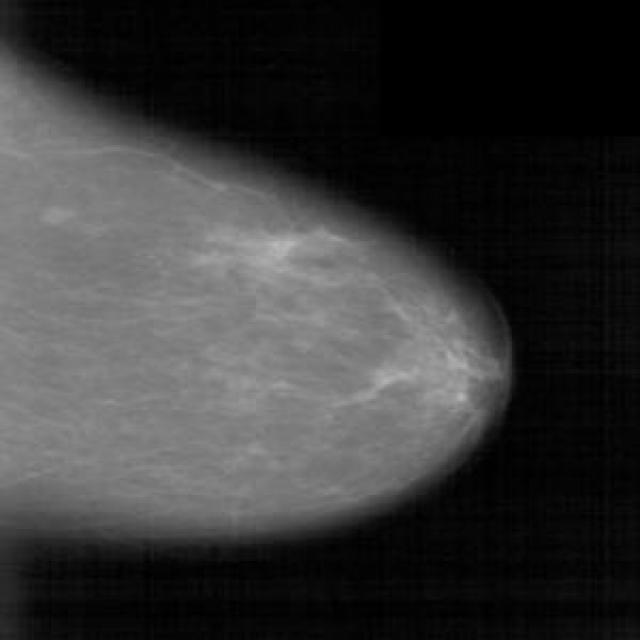tumor: (381, 303, 494, 416), (237, 211, 361, 273)
